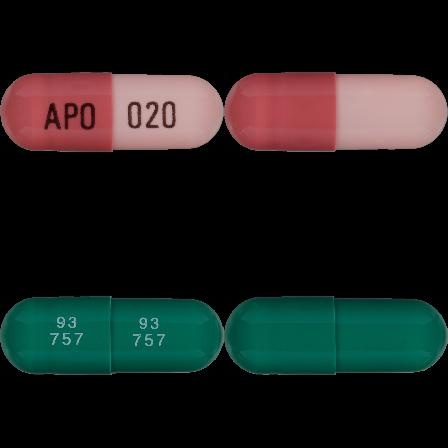42549-541: (0, 0, 224, 224)
